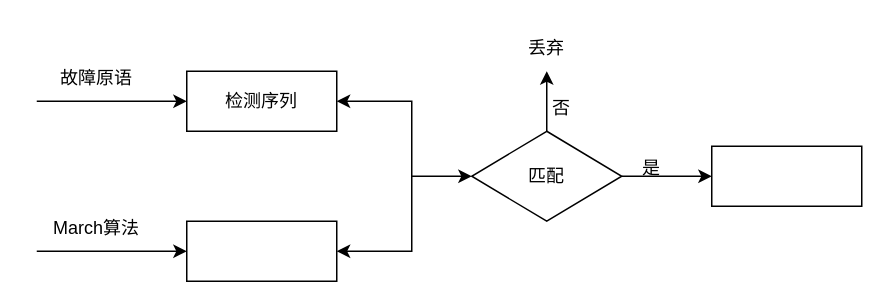
The diagram is 888 pixels wide and 308 high, and some of its shapes have lost their labels. Here are the shapes that lost their labels. From the top down, the centre of each, then its label:
At point (786, 175): "故障检测集".
At point (261, 250): "ASD".
